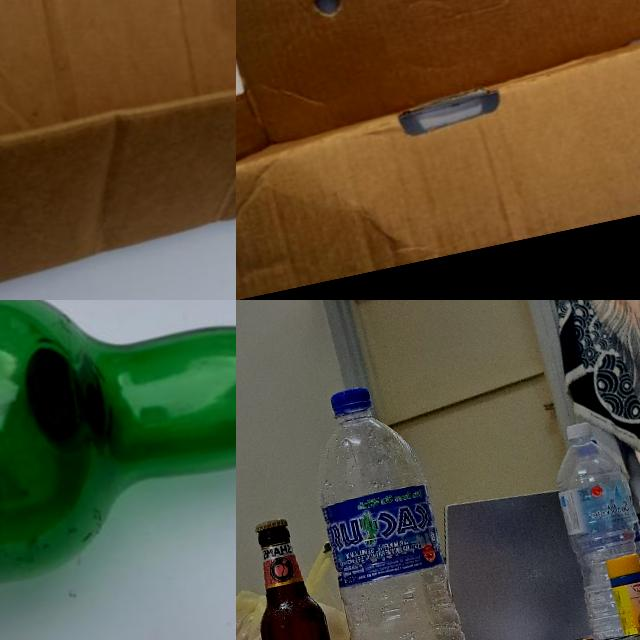garrafa de vidro: (0, 300, 236, 619), (236, 512, 352, 640)
garrafa plástica: (300, 403, 483, 640), (544, 435, 640, 640)
papelão: (236, 0, 640, 300), (0, 0, 236, 300)
tampa plástica: (329, 384, 371, 419), (565, 416, 590, 440)
